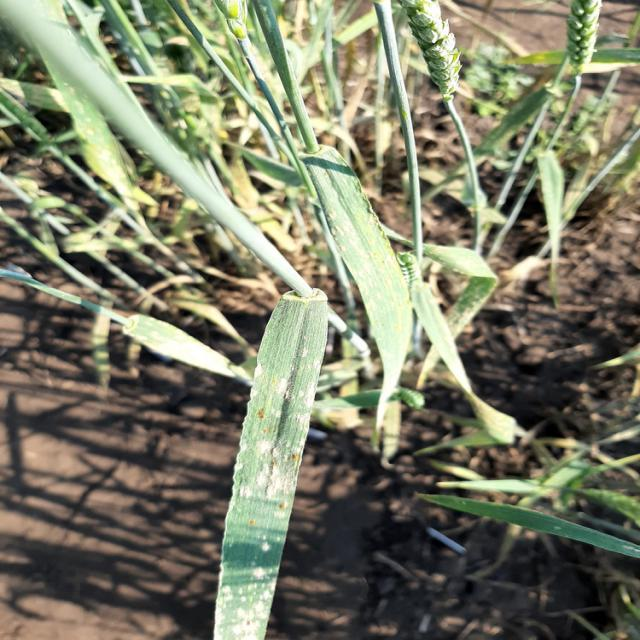wheat-powdery-mildew: (212, 296, 328, 640)
